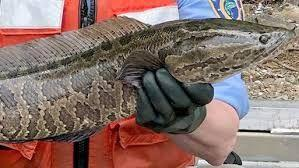Snakehead: (1, 15, 294, 149)
